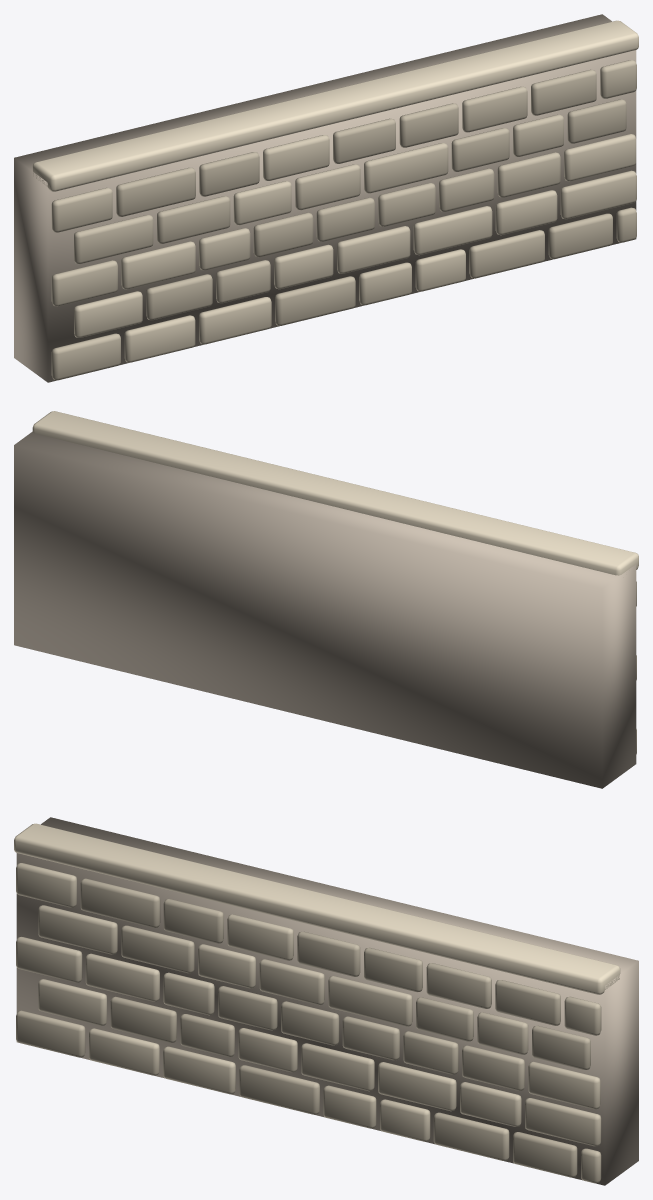
File: terrace_wall.glb
The picture shows the model from 3 angles, top to bottom: view 1: azimuth 30°, elevation 25°; view 2: azimuth 150°, elevation 25°; view 3: azimuth 330°, elevation 25°; orthographic projection.
Parts seen in each view (by area): view 1: Terrace_Wall_Stones, Terrace_Wall_Core; view 2: Terrace_Wall_Core, Terrace_Wall_Stones; view 3: Terrace_Wall_Stones, Terrace_Wall_Core.
Part boxes in pixels (<box>): Terrace_Wall_Stones: <box>32,20,638,380</box>; Terrace_Wall_Core: <box>14,14,636,382</box>; Terrace_Wall_Core: <box>14,431,636,788</box>; Terrace_Wall_Stones: <box>32,411,638,754</box>; Terrace_Wall_Stones: <box>14,823,620,1183</box>; Terrace_Wall_Core: <box>16,817,638,1185</box>.
Bounding box in the file's own units: 8 × 2.71 × 0.91.
